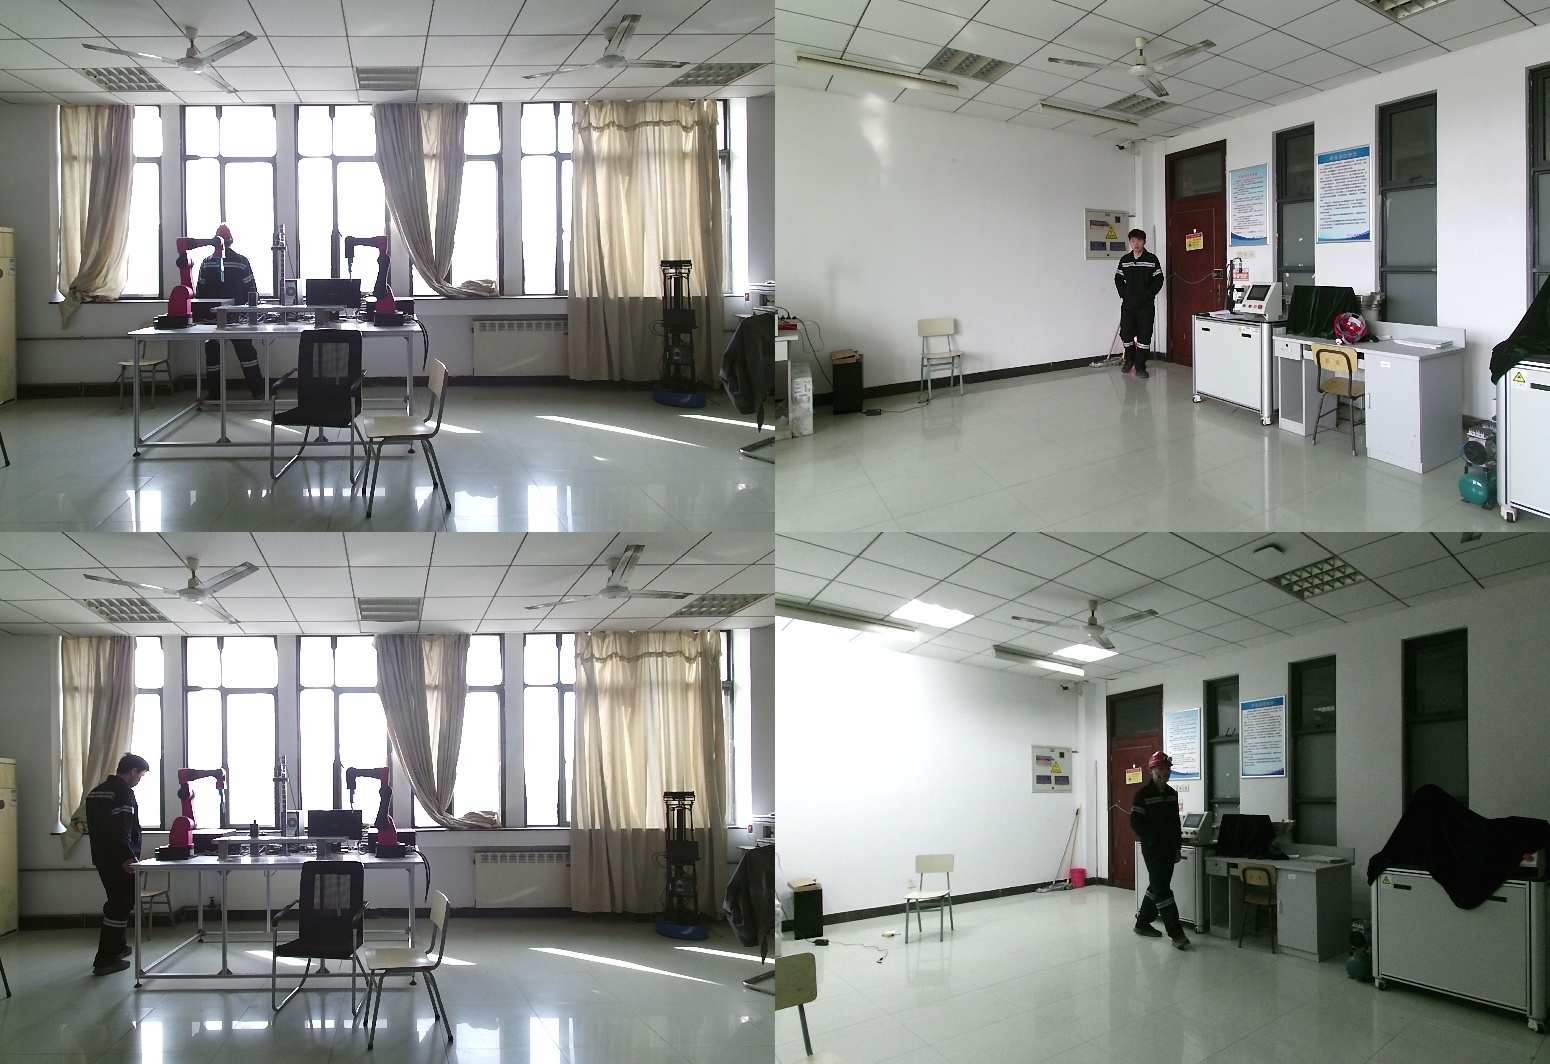person: (83, 755, 150, 977), (196, 227, 270, 412), (1121, 751, 1189, 948), (1111, 229, 1163, 382)
